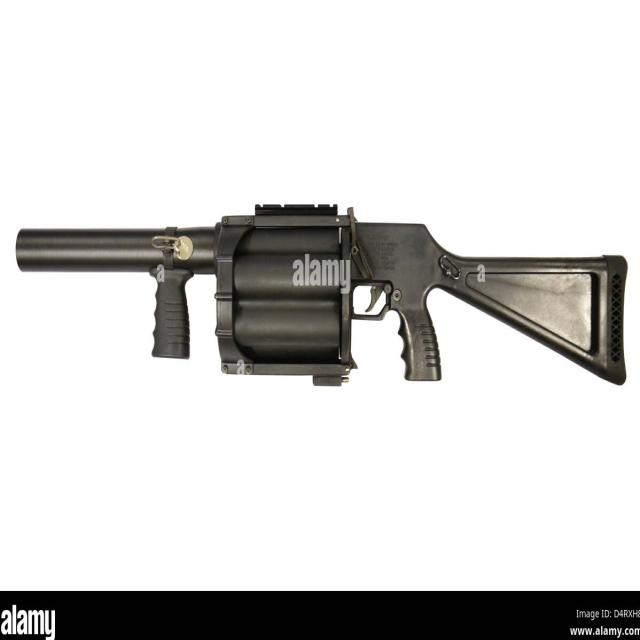Weapon: (17, 204, 627, 386)
